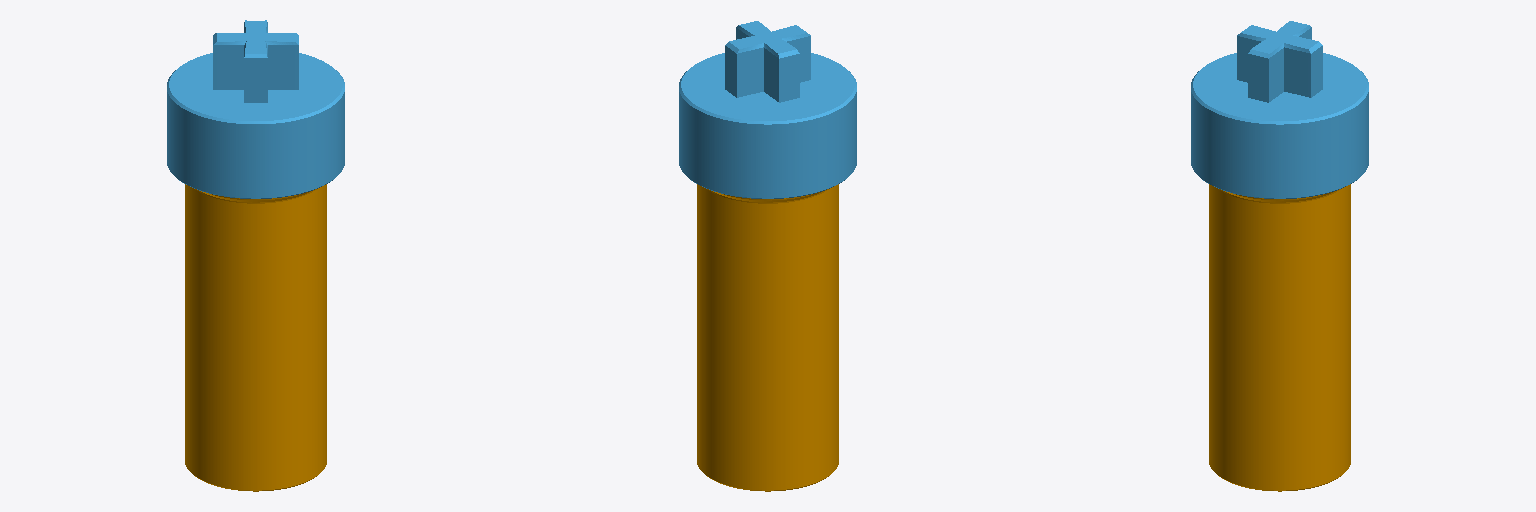
URDF robot description (rh56_shaker_locked):
<?xml version="1.0"?>
<!-- body + lid welded in LOCKED pose (shaking-only training). profile=sim -->
<robot name="rh56_shaker_locked">
  <link name="body">
    <!-- origin = bottom centre, rim at z=170.0 mm -->
    <inertial>
      <origin xyz="-0.000000 0.000000 0.082567" rpy="0 0 0"/>
      <mass value="0.13264"/>
      <inertia ixx="4.8684e-04" ixy="0" ixz="0" iyy="4.8684e-04" iyz="0" izz="1.0399e-04"/>
    </inertial>
    <visual><geometry><mesh filename="../../meshes/sim/rh56_shaker_body.stl" scale="0.001 0.001 0.001"/></geometry></visual>
    <collision><geometry><mesh filename="../../meshes/sim/rh56_shaker_body.stl" scale="0.001 0.001 0.001"/></geometry></collision>
  </link>
  <link name="lid">
    <!-- origin = mating plane (plate underside) centre -->
    <inertial>
      <origin xyz="0.000000 0.000000 -0.001123" rpy="0 0 0"/>
      <mass value="0.07547"/>
      <inertia ixx="4.3621e-05" ixy="0" ixz="0" iyy="4.3621e-05" iyz="0" izz="6.0381e-05"/>
    </inertial>
    <visual><geometry><mesh filename="../../meshes/sim/rh56_shaker_lid.stl" scale="0.001 0.001 0.001"/></geometry></visual>
    <collision><geometry><mesh filename="../../meshes/sim/rh56_shaker_lid.stl" scale="0.001 0.001 0.001"/></geometry></collision>
  </link>
  <joint name="lid_lock" type="fixed">
    <parent link="body"/><child link="lid"/>
    <origin xyz="0 0 0.170000" rpy="0 0 -0.523599"/>
  </joint>
</robot>

--- Facts derived from the render (not from the file) ---
3 views of the same robot in one strip: view 1: azimuth 30°, elevation 25°; view 2: azimuth 150°, elevation 25°; view 3: azimuth 270°, elevation 25° (orthographic).
Model rh56_shaker_locked with 2 links and 1 joints (1 fixed), rooted at body, posed all joints at 0.
Visible links, largest first — view 1: body, lid; view 2: body, lid; view 3: body, lid.
Boxes of the visible links, x1,y1,x2,y2 form: body: [185, 184, 326, 491]; lid: [167, 20, 344, 198]; body: [697, 184, 838, 491]; lid: [679, 21, 856, 198]; body: [1209, 184, 1350, 491]; lid: [1191, 21, 1368, 198].
Size in the robot's own frame: 0.075 by 0.075 by 0.197 metres.
Meshes: 2 distinct files referenced, 2 mesh visuals loaded (2 binary STL).
